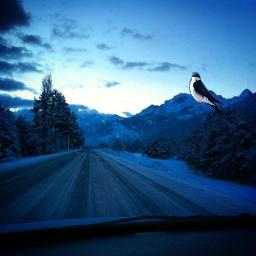Swallow: (189, 72, 224, 110)
